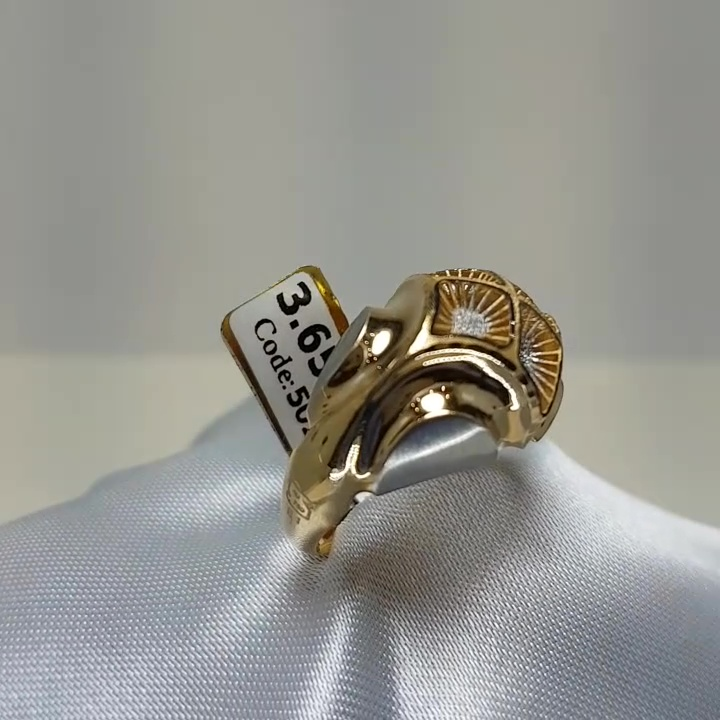Ring 2: (268, 222, 575, 598)
